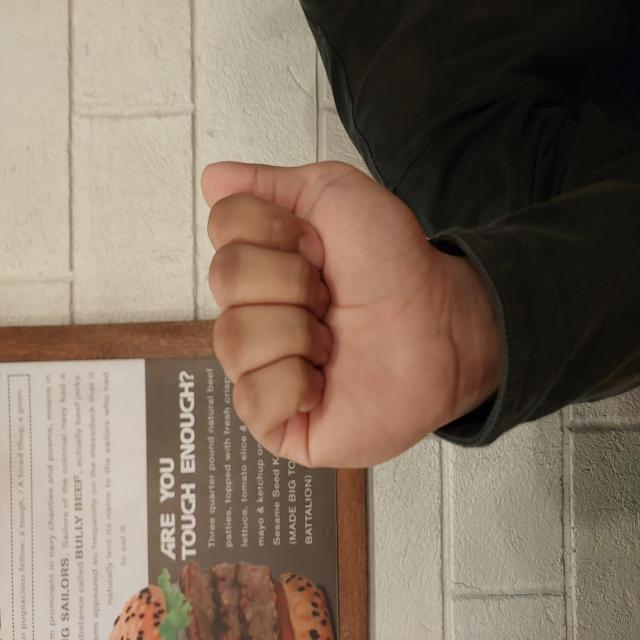A: (169, 198, 483, 460)
